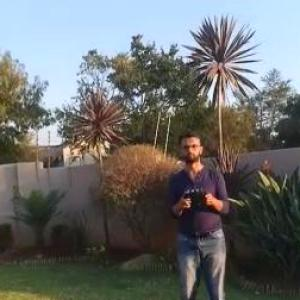follow: (163, 127, 236, 299)
